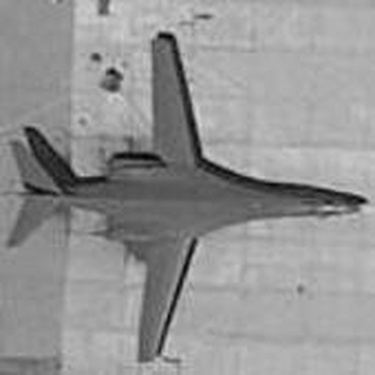airplane: (1, 20, 364, 366)
